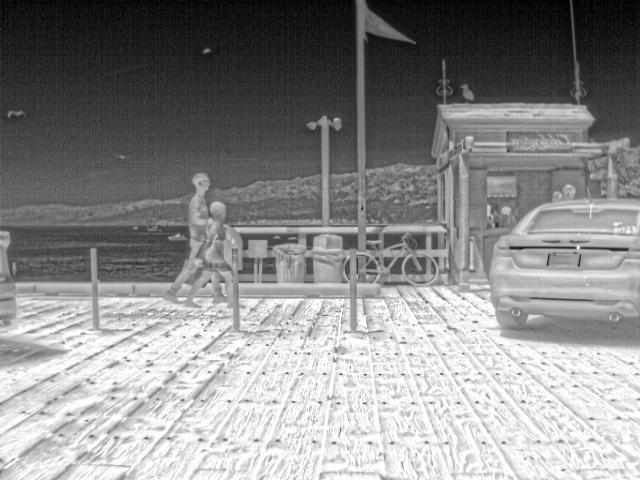car: (489, 196, 640, 330), (1, 228, 20, 330)
person: (160, 172, 223, 303), (185, 200, 239, 308), (499, 206, 519, 229)
